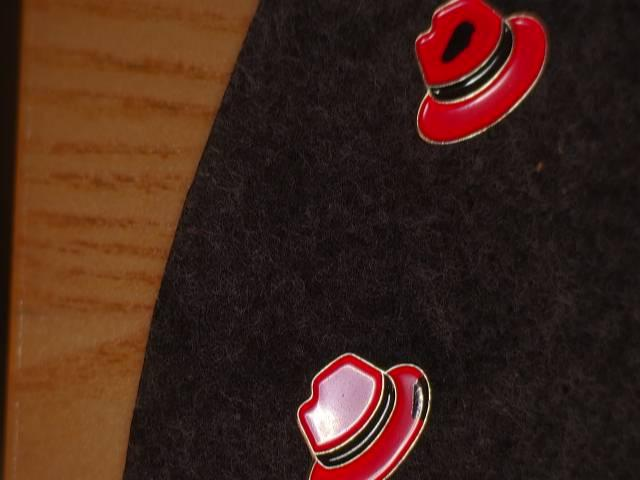Red-Hat: (400, 0, 565, 158), (275, 339, 457, 480)
Scratch: (436, 7, 485, 76), (399, 364, 445, 435)
